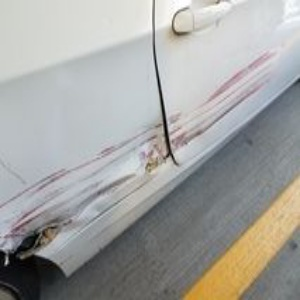door_scratch: (1, 135, 180, 209)
